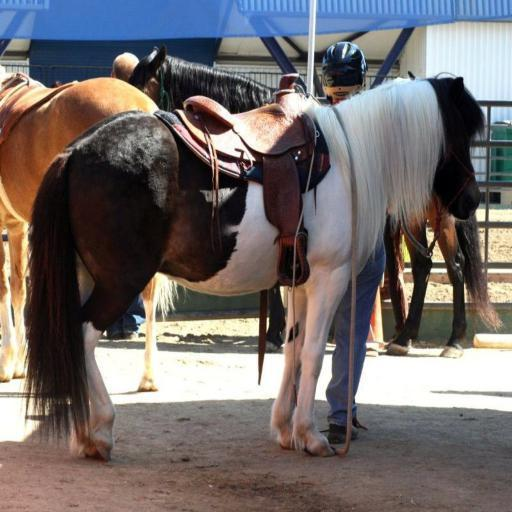horse: (16, 68, 490, 462), (129, 48, 505, 360), (0, 61, 181, 394)
